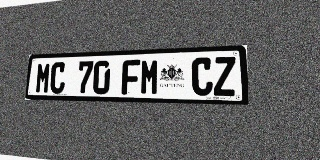0: (92, 60, 110, 94)
7: (76, 61, 94, 94)
C: (191, 57, 213, 96), (49, 62, 66, 94)
F: (121, 59, 140, 95)
M: (140, 59, 159, 95), (35, 62, 51, 93)
Z: (213, 56, 236, 96)
